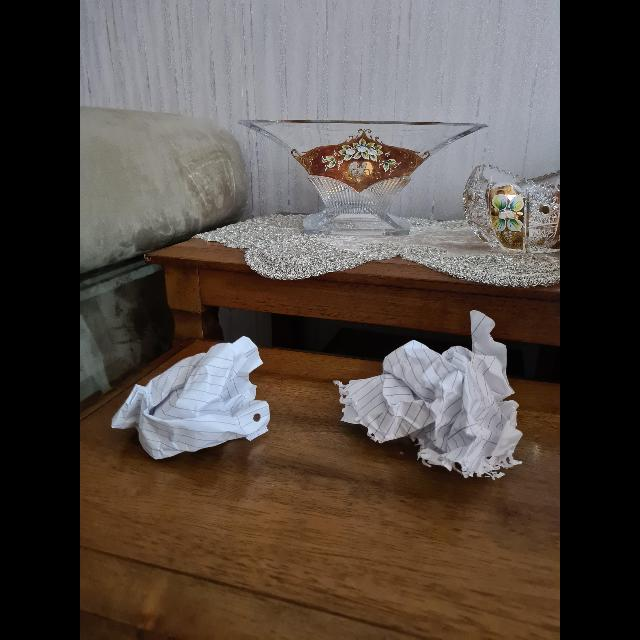scrap_paper: (340, 310, 530, 476), (114, 330, 268, 458)
